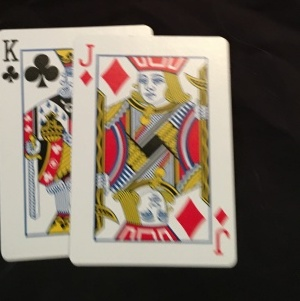card: (71, 33, 239, 268)
